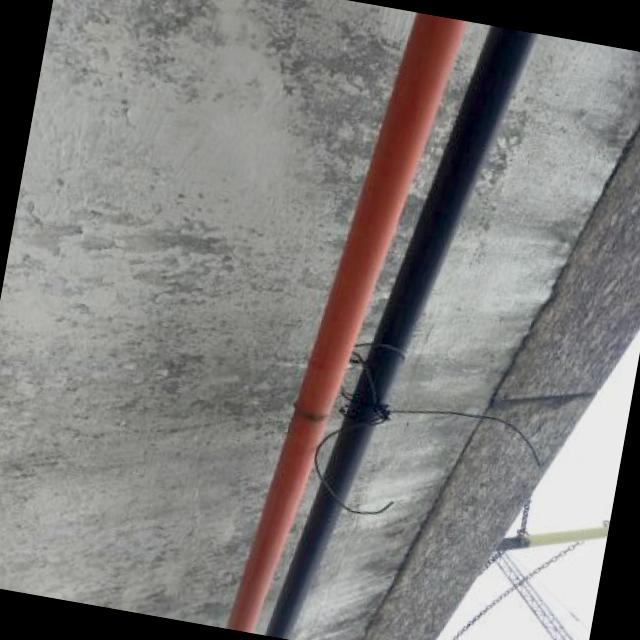gas: (268, 26, 534, 637), (227, 12, 468, 629)
